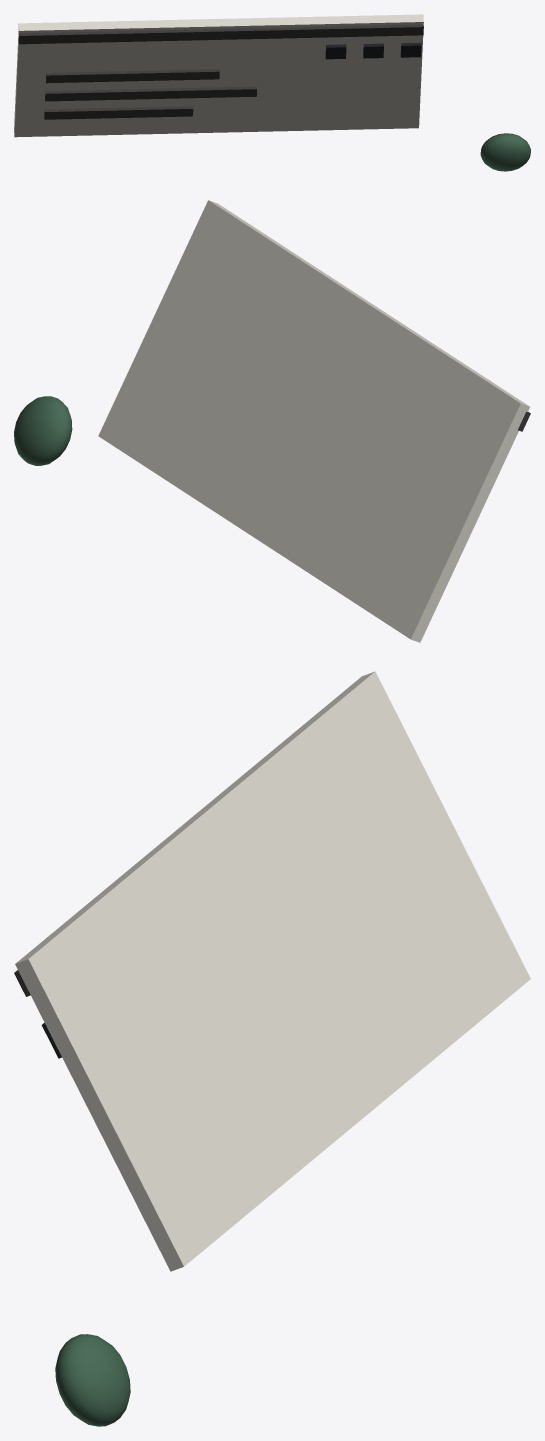
Rendered from courier.glb.
3 renders of one model, top to bottom at view 1: azimuth 30°, elevation 25°; view 2: azimuth 150°, elevation 25°; view 3: azimuth 270°, elevation 25°, orthographic. The views are drawn at different scales.
Parts seen in each view (by area): view 1: dnsm_card, dnsm_card_edge, dnsm_card_txt_1, dnsm_card_txt_0, dnsm_card_txt_2, dnsm_courier_dome, dnsm_card_punch_0, dnsm_card_punch_1, dnsm_card_punch_2; view 2: dnsm_card, dnsm_courier_dome; view 3: dnsm_card, dnsm_courier_dome.
Boxes of the visible parts, x1,y1,x2,y2 form: dnsm_card: (14,14,423,137); dnsm_card_edge: (18,24,423,44); dnsm_card_txt_1: (45,86,257,101); dnsm_card_txt_0: (46,69,219,83); dnsm_card_txt_2: (44,106,193,119); dnsm_courier_dome: (480,133,530,171); dnsm_card_punch_0: (325,44,346,59); dnsm_card_punch_1: (363,43,383,58); dnsm_card_punch_2: (400,42,421,57); dnsm_card: (98,200,529,642); dnsm_courier_dome: (14,396,72,465); dnsm_card: (15,671,530,1271); dnsm_courier_dome: (55,1334,130,1426).
Size of the model in its own units: 0.1358 by 0.0583 by 0.0739.
